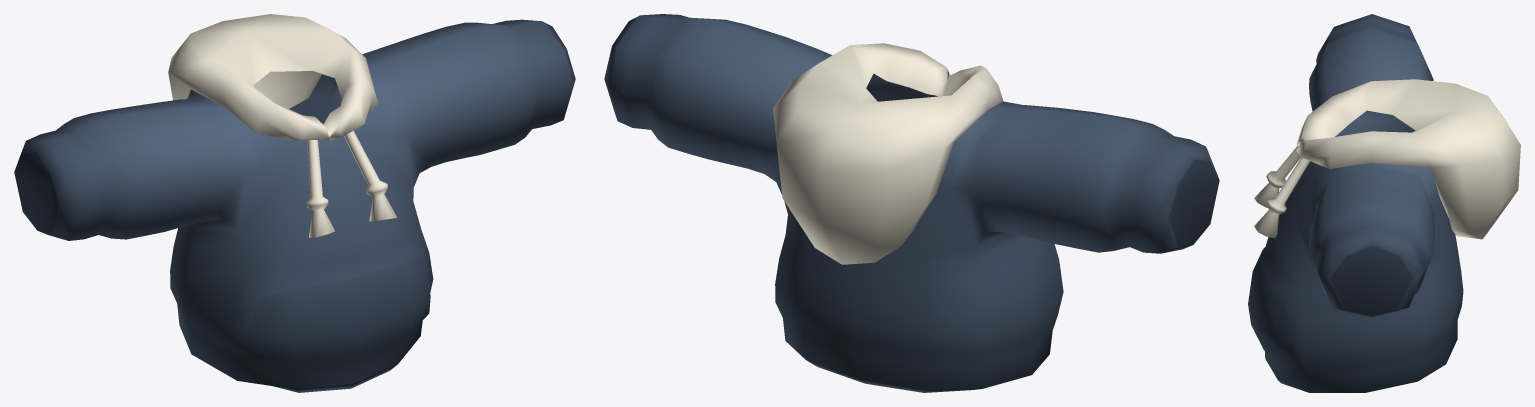
File: Top_32.fbx
3 views of the same model, side by side, from view 1: azimuth 30°, elevation 25°; view 2: azimuth 150°, elevation 25°; view 3: azimuth 270°, elevation 25° (orthographic). The views are drawn at different scales.
Visible parts, largest first — view 1: Top_32; view 2: Top_32; view 3: Top_32.
Part boxes in pixels (x1,y1,x2,y2): Top_32: (14,14,575,392); Top_32: (604,14,1219,392); Top_32: (1248,14,1520,392).
Bounding box in the file's own units: 99.63 × 52.57 × 50.2.
